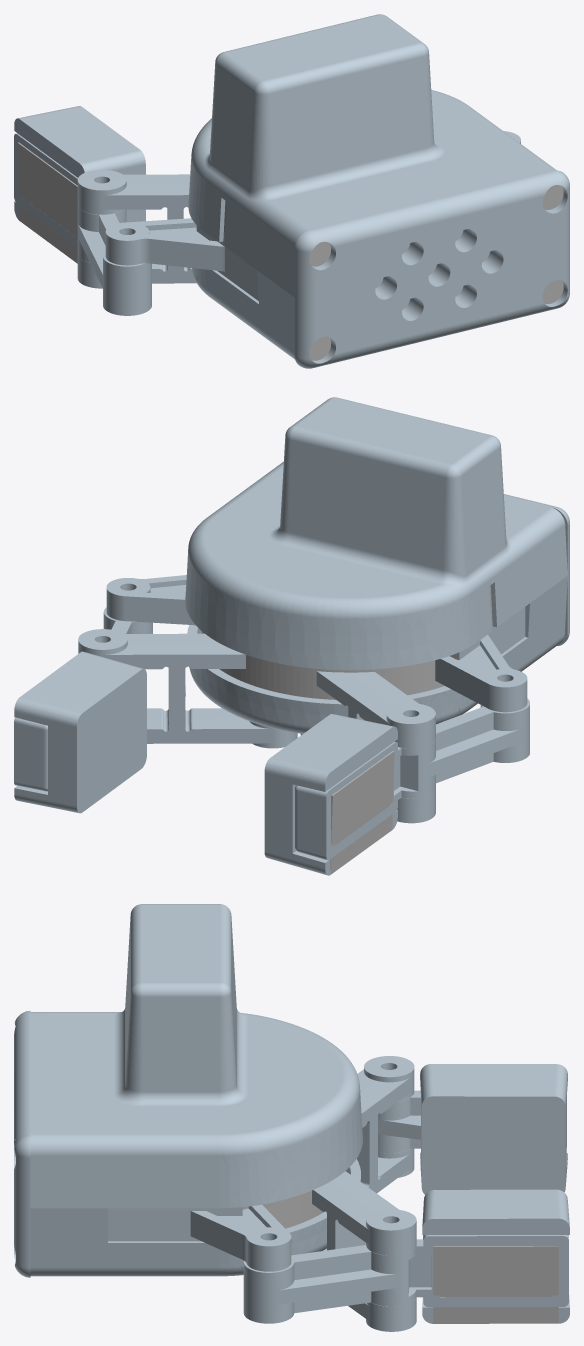
The model's file is gripper_model.dae.
3 renders of one model, top to bottom at view 1: azimuth 30°, elevation 25°; view 2: azimuth 150°, elevation 25°; view 3: azimuth 270°, elevation 25°, orthographic. The views are drawn at different scales.
Visible parts, largest first — view 1: node_b4c785ae_d97d_4161_a94e_02a5fe3207a5_mesh1, node_b4c785ae_d97d_4161_a94e_02a5fe3207a5_mesh0, node_b4c785ae_d97d_4161_a94e_02a5fe3207a5_mesh2; view 2: node_b4c785ae_d97d_4161_a94e_02a5fe3207a5_mesh0, node_b4c785ae_d97d_4161_a94e_02a5fe3207a5_mesh1, node_b4c785ae_d97d_4161_a94e_02a5fe3207a5_mesh2; view 3: node_b4c785ae_d97d_4161_a94e_02a5fe3207a5_mesh1, node_b4c785ae_d97d_4161_a94e_02a5fe3207a5_mesh0, node_b4c785ae_d97d_4161_a94e_02a5fe3207a5_mesh2.
Part boxes in pixels (x1,y1,x2,y2): node_b4c785ae_d97d_4161_a94e_02a5fe3207a5_mesh1: [14, 14, 569, 368]; node_b4c785ae_d97d_4161_a94e_02a5fe3207a5_mesh0: [16, 14, 569, 367]; node_b4c785ae_d97d_4161_a94e_02a5fe3207a5_mesh2: [17, 142, 563, 360]; node_b4c785ae_d97d_4161_a94e_02a5fe3207a5_mesh0: [14, 397, 567, 875]; node_b4c785ae_d97d_4161_a94e_02a5fe3207a5_mesh1: [14, 397, 569, 875]; node_b4c785ae_d97d_4161_a94e_02a5fe3207a5_mesh2: [201, 585, 492, 874]; node_b4c785ae_d97d_4161_a94e_02a5fe3207a5_mesh1: [14, 905, 569, 1323]; node_b4c785ae_d97d_4161_a94e_02a5fe3207a5_mesh0: [14, 904, 567, 1331]; node_b4c785ae_d97d_4161_a94e_02a5fe3207a5_mesh2: [242, 1190, 558, 1323].
Bounding box in the file's own units: 88.18 × 99.21 × 56.23.
